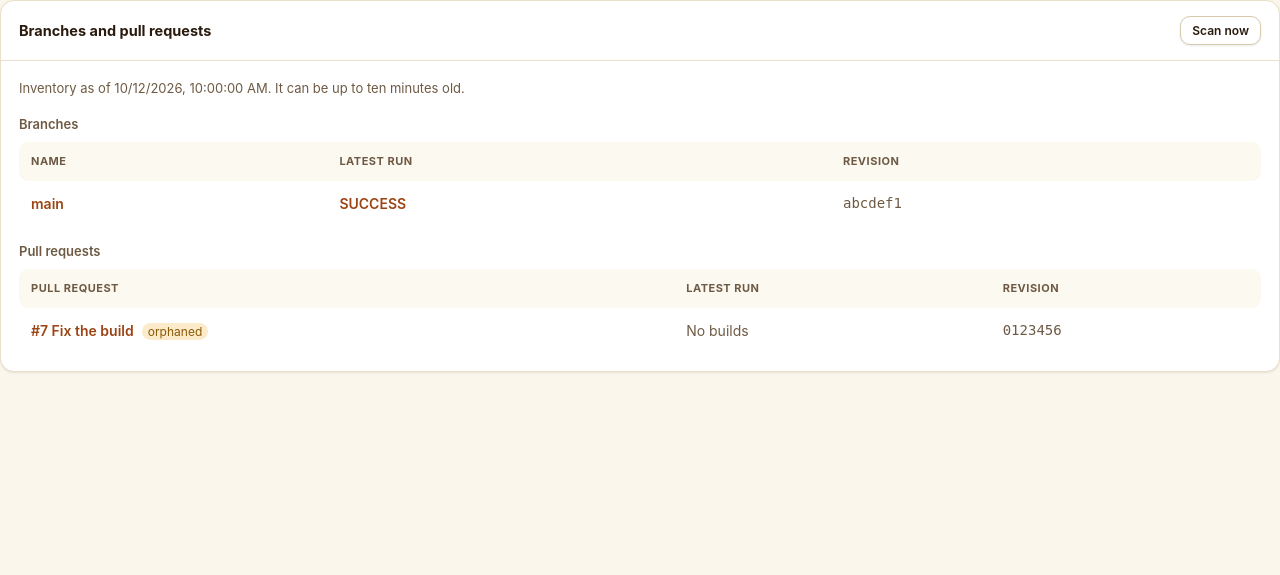
Test: MultibranchCard › requests a scan and shows the counts and names of its result
Click the button "Scan now": (1221, 30) [1180,16,1261,45]
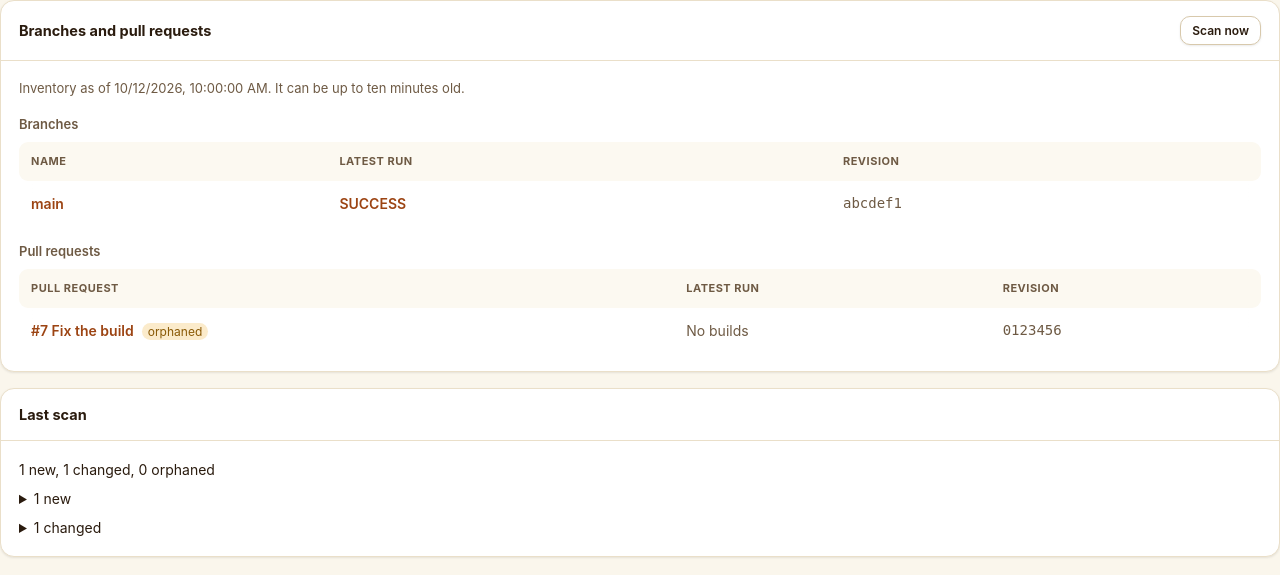
Result: the text "1 new, 1 changed, 0 orphaned" is shown at [19,461,215,478]
